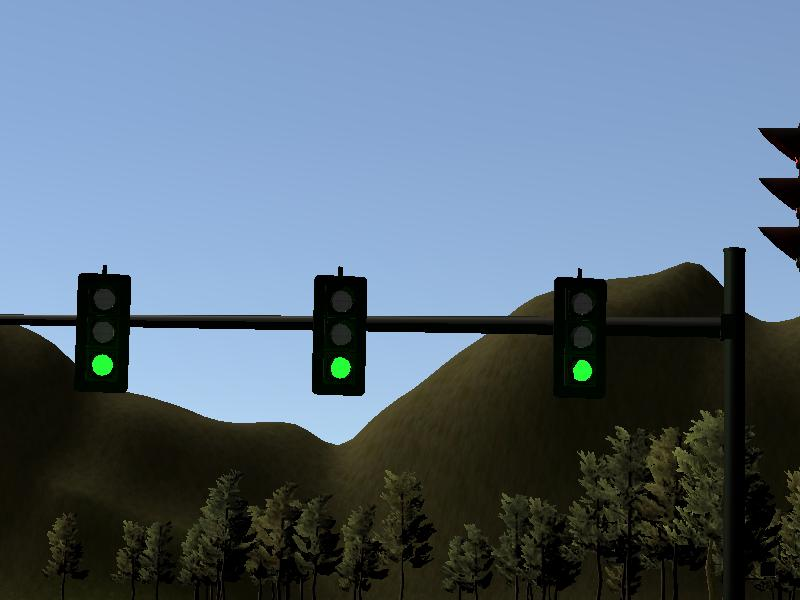not_red: (313, 273, 365, 395), (76, 270, 127, 389), (554, 276, 605, 390)
